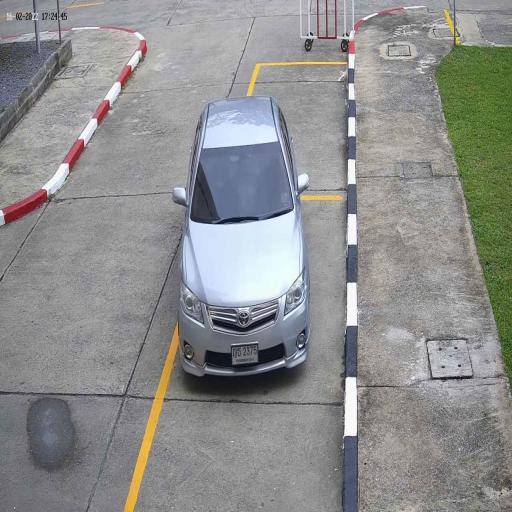car: (177, 95, 311, 381)
